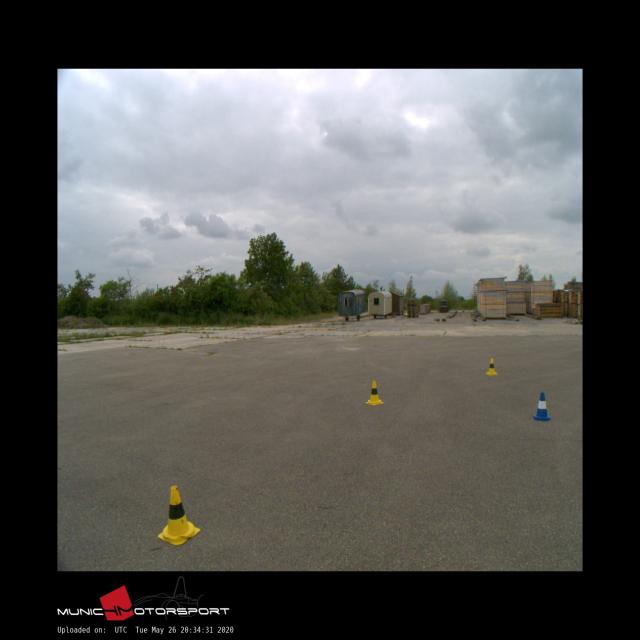blue_cone: (532, 392, 550, 421)
yellow_cone: (157, 487, 200, 546), (365, 380, 383, 405), (484, 358, 498, 374)
